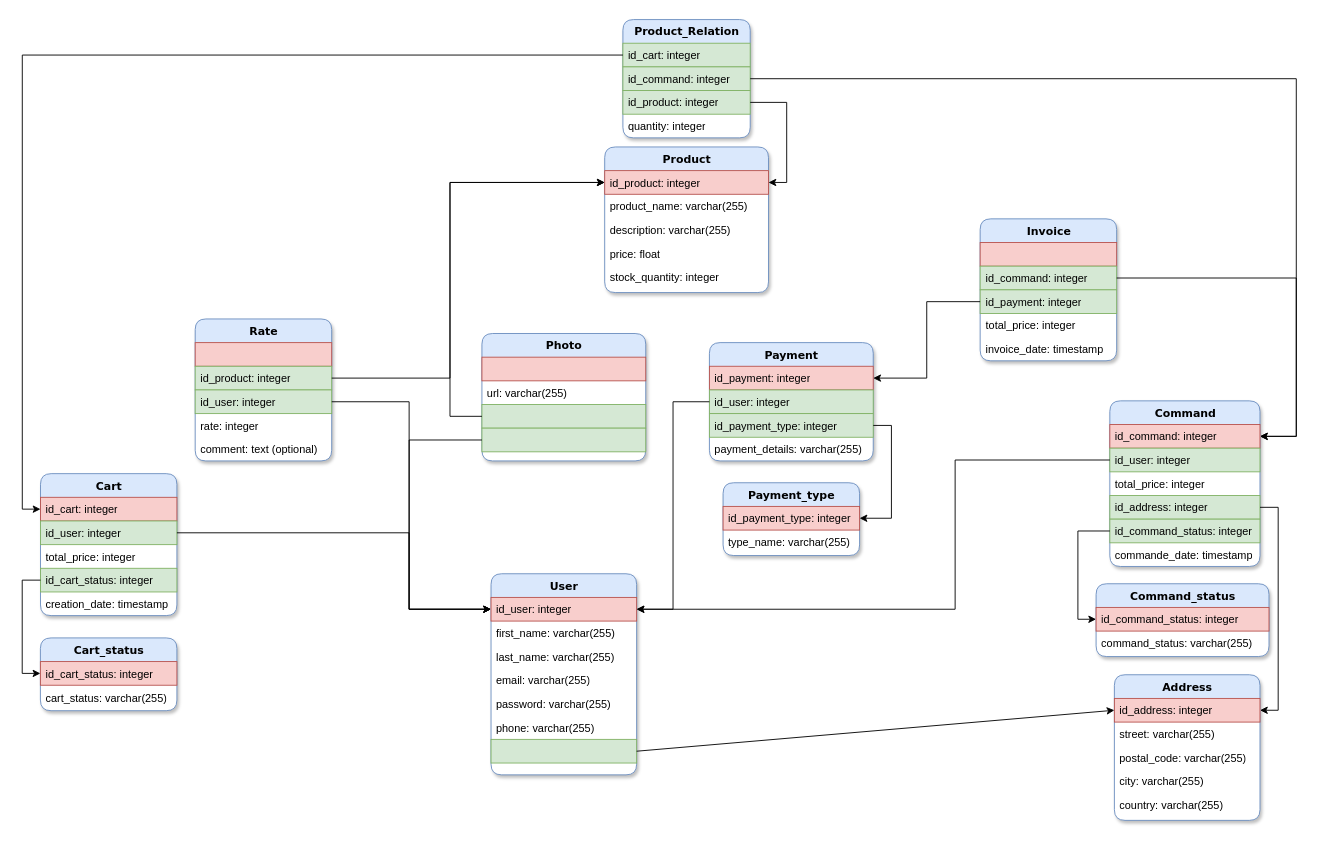
Some shapes in this 1320 by 843 pixel diagram are drawn without their labels. Here are the shapes that lost their labels. From the top down, the centre of each, then its label:
the point at 1048,254: id_invoice: integer
the point at 263,354: id_rate: integer
the point at 563,368: id_photo: integer
the point at 563,416: id_product: integer (optional)
the point at 563,439: id_user: integer (optional)
the point at 563,750: id_address: varchar(255)
